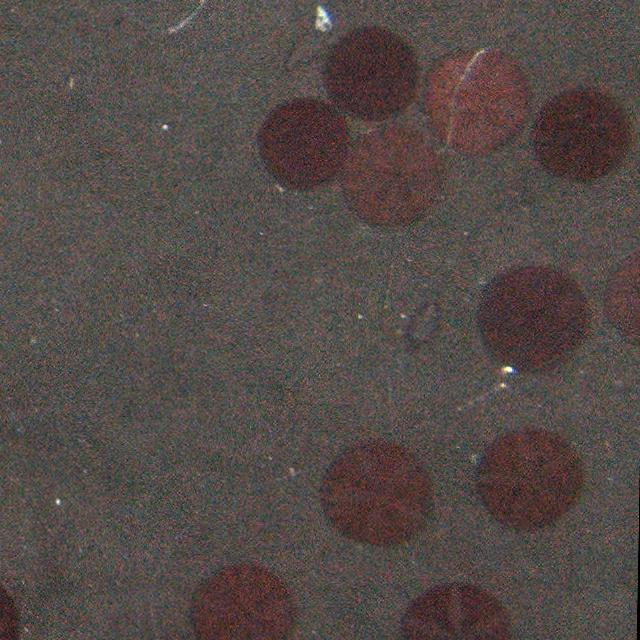whelk: (403, 298, 441, 362)
